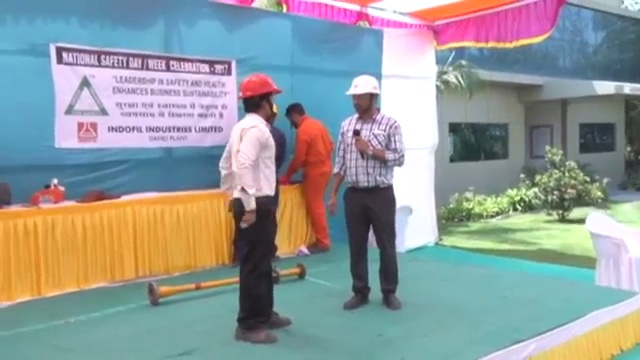helmet: (236, 73, 283, 100), (342, 74, 384, 98)
helmet_off: (281, 100, 308, 130)
helmet_on: (235, 73, 284, 123), (342, 73, 385, 123)
person: (218, 74, 294, 345), (326, 73, 405, 311), (278, 99, 335, 253)
